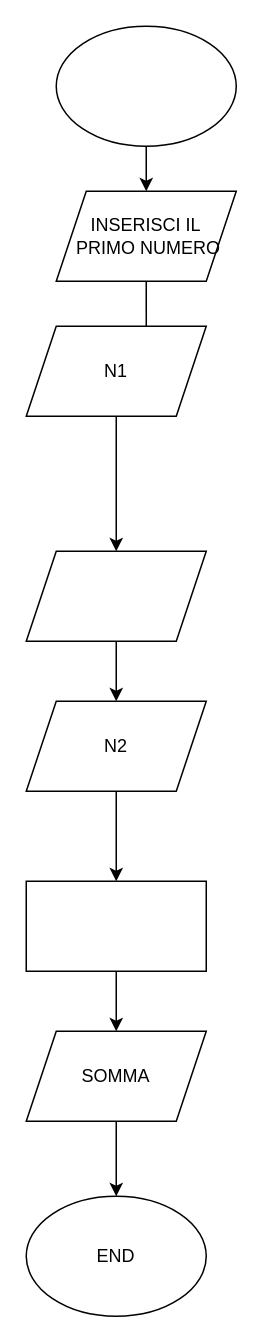
Image size: 263x1343. Some labels were removed from this diagram. The shapes that lost their labels are listed below. From the top down, each one's centre as x and y in pixels, then its label:
At (x=145, y=85): "START".
At (x=115, y=595): "INSERISCI IL SECONDO NUMERO".
At (x=115, y=925): "SOMMA = N1 + N2".
